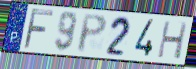2: (102, 14, 133, 59)
4: (133, 18, 155, 60)
9: (53, 10, 77, 54)
F: (22, 7, 55, 51)
H: (156, 20, 189, 61)
P: (76, 13, 108, 55)
